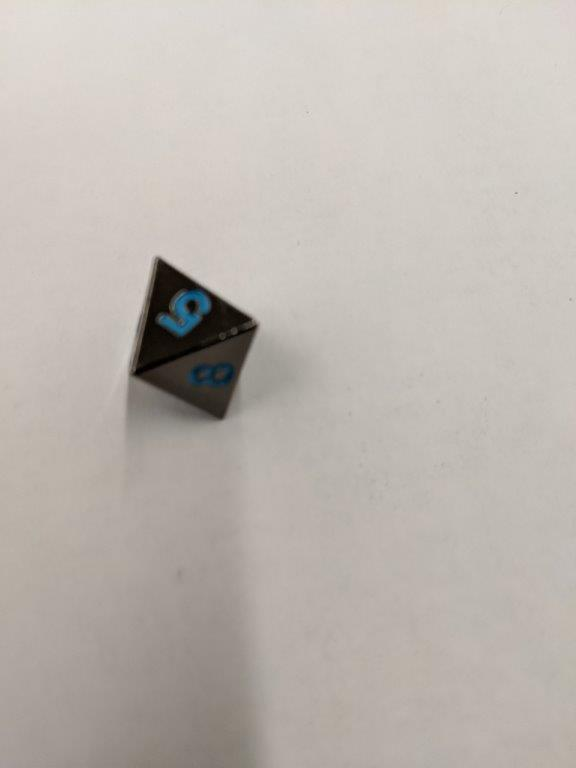d8-5: (128, 253, 260, 420)
